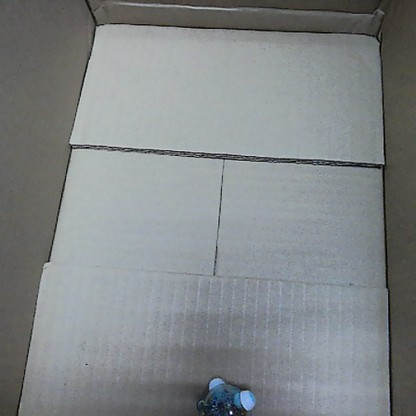bluefish: (192, 371, 259, 414)
